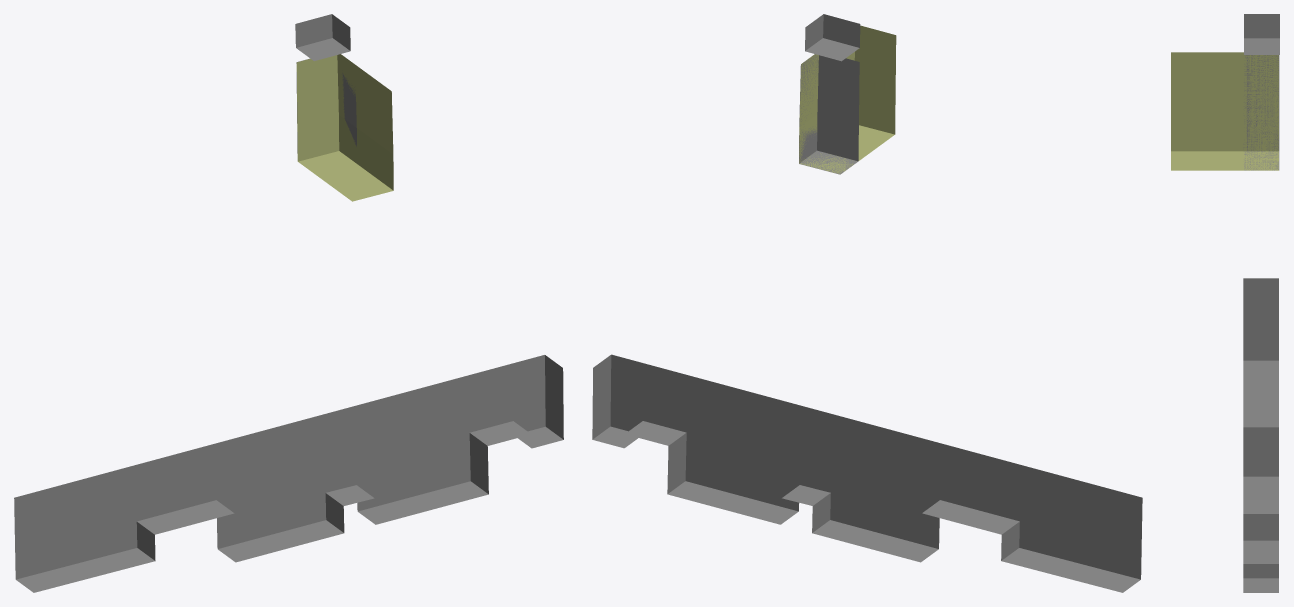
The picture shows the model from 3 angles, left to right: view 1: azimuth 30°, elevation 25°; view 2: azimuth 150°, elevation 25°; view 3: azimuth 270°, elevation 25°; orthographic projection.
Visible parts, largest first — view 1: 0_1_2_0_3_0_2_3_3; view 2: 0_1_2_0_3_0_2_3_3; view 3: 0_1_2_0_3_0_2_3_3.
Part boxes in pixels (left/top/right/bottom): 0_1_2_0_3_0_2_3_3: left=14, top=14, right=563, bottom=592; 0_1_2_0_3_0_2_3_3: left=592, top=14, right=1142, bottom=592; 0_1_2_0_3_0_2_3_3: left=1171, top=14, right=1279, bottom=592.
Bounding box in the file's own units: 50.65 × 46.16 × 9.07.
